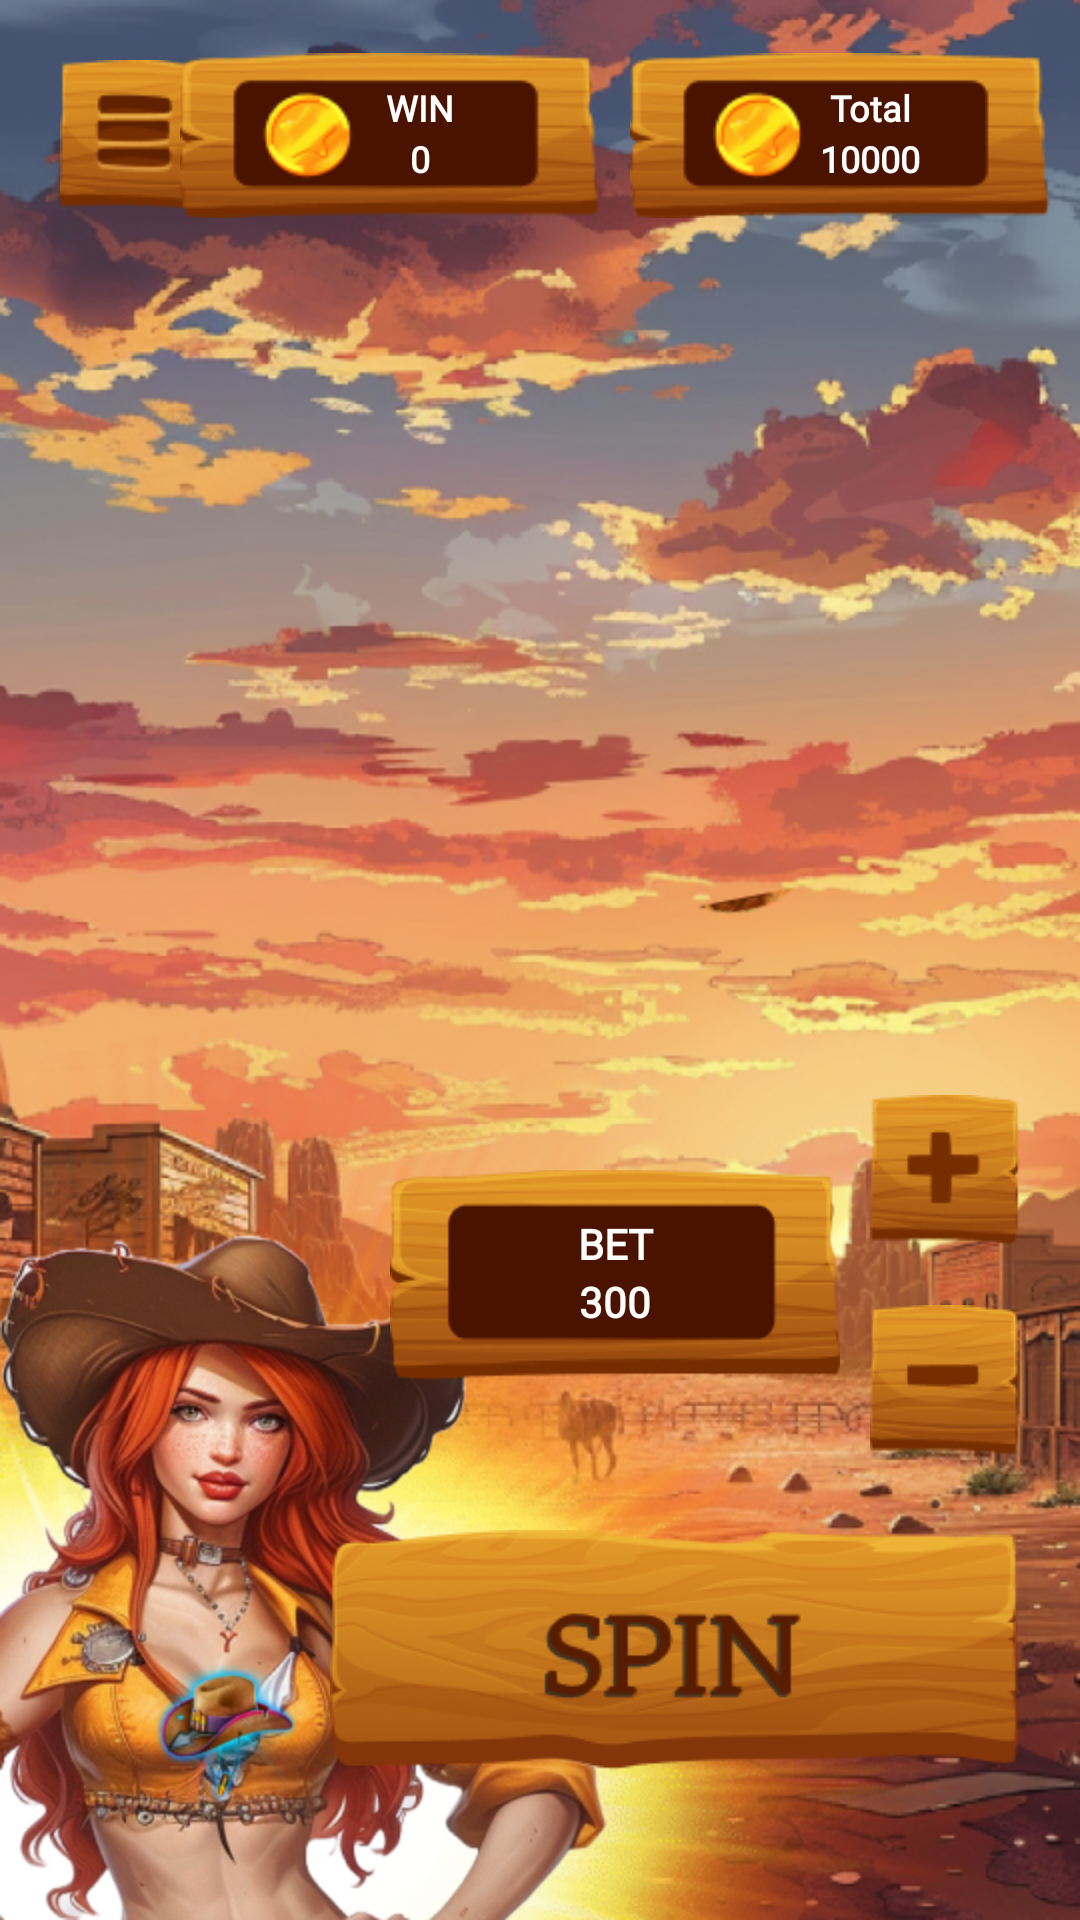

Where to tap for icons on this 1080×1920 app screen, as (x,y):
minus bet: (945,1380)
plus bet: (945,1170)
